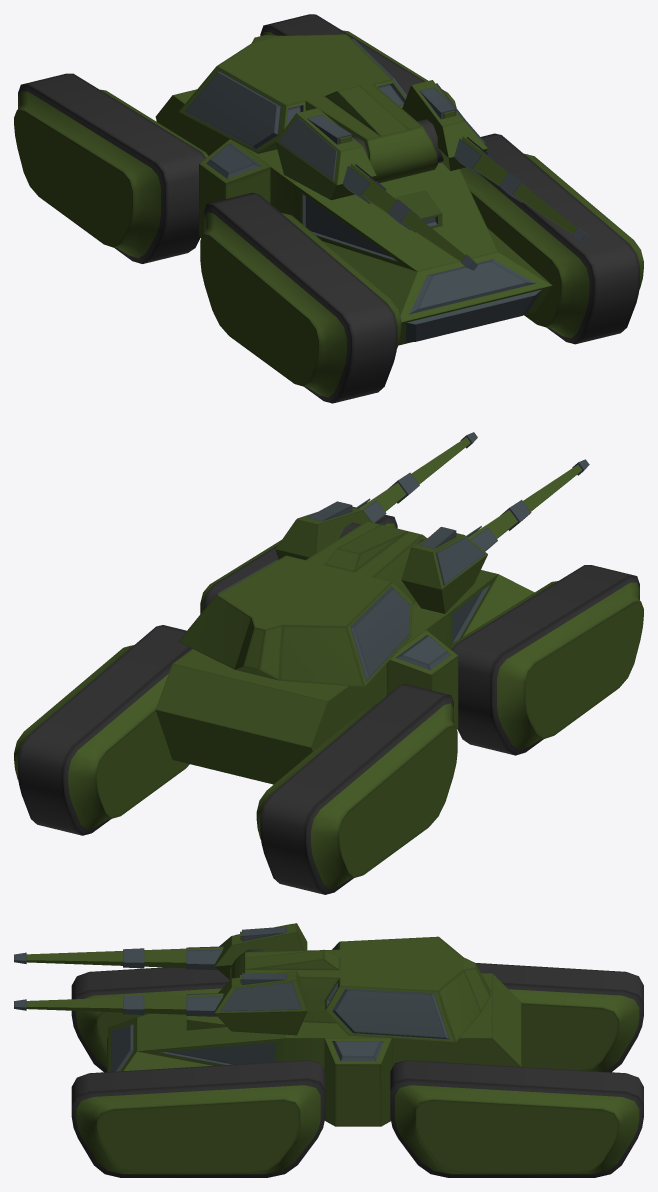
The model's file is tankkk.fbx.
3 renders of one model, top to bottom at view 1: azimuth 30°, elevation 25°; view 2: azimuth 150°, elevation 25°; view 3: azimuth 270°, elevation 25°, orthographic. The views are drawn at different scales.
Visible parts, largest first — view 1: Cube.001; view 2: Cube.001; view 3: Cube.001.
Part boxes in pixels (bbox=[...]): Cube.001: bbox=[14, 14, 643, 403]; Cube.001: bbox=[14, 432, 643, 894]; Cube.001: bbox=[14, 923, 643, 1177].
Size of the model in its own units: 94.48 by 53.92 by 185.
